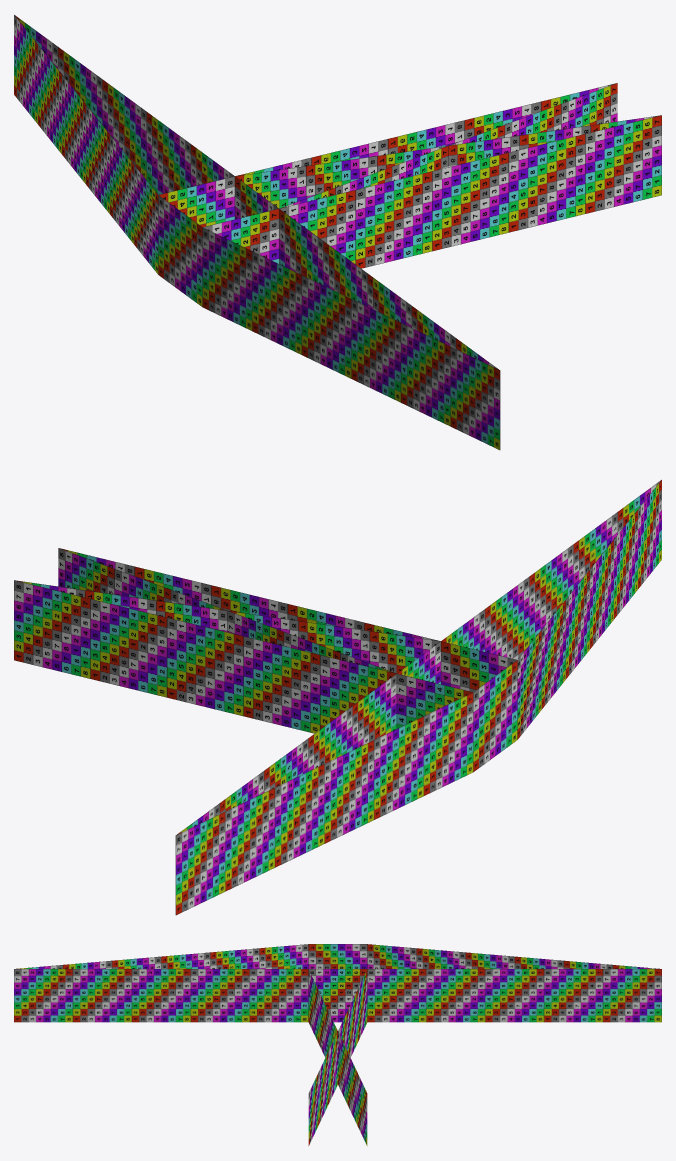
File: garagenrampe8.glb
The picture shows the model from 3 angles, top to bottom: view 1: azimuth 30°, elevation 25°; view 2: azimuth 150°, elevation 25°; view 3: azimuth 270°, elevation 25°; orthographic projection. The views are drawn at different scales.
Parts seen in each view (by area): view 1: oneX, oneY, twoY, twoX, Cube; view 2: twoX, twoY, oneY, oneX, Cube; view 3: oneY, twoY, Cube, oneX, twoX.
Boxes of the visible parts, box(x1,y1,x2,y2) form: oneX: box(203, 115, 661, 268); oneY: box(202, 176, 500, 450); twoY: box(14, 15, 234, 274); twoX: box(160, 83, 617, 226); Cube: box(158, 176, 279, 306); twoX: box(14, 580, 467, 733); twoY: box(175, 642, 473, 915); oneY: box(441, 480, 661, 739); oneX: box(58, 548, 516, 691); Cube: box(396, 641, 517, 771); oneY: box(14, 944, 365, 1022); twoY: box(309, 944, 661, 1022); Cube: box(308, 944, 367, 1022); oneX: box(308, 970, 367, 1145); twoX: box(308, 970, 367, 1145).
Bounding box in the file's own units: 6 × 1 × 11.
1 material, 1 textured.
